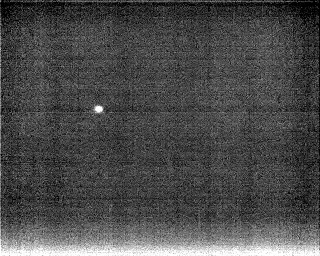AIRPLANE: (92, 103, 105, 115)
